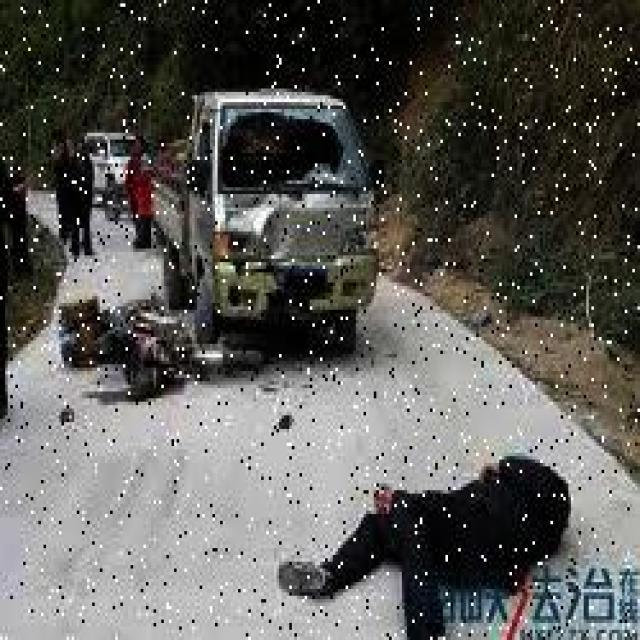fall: (286, 429, 574, 637)
